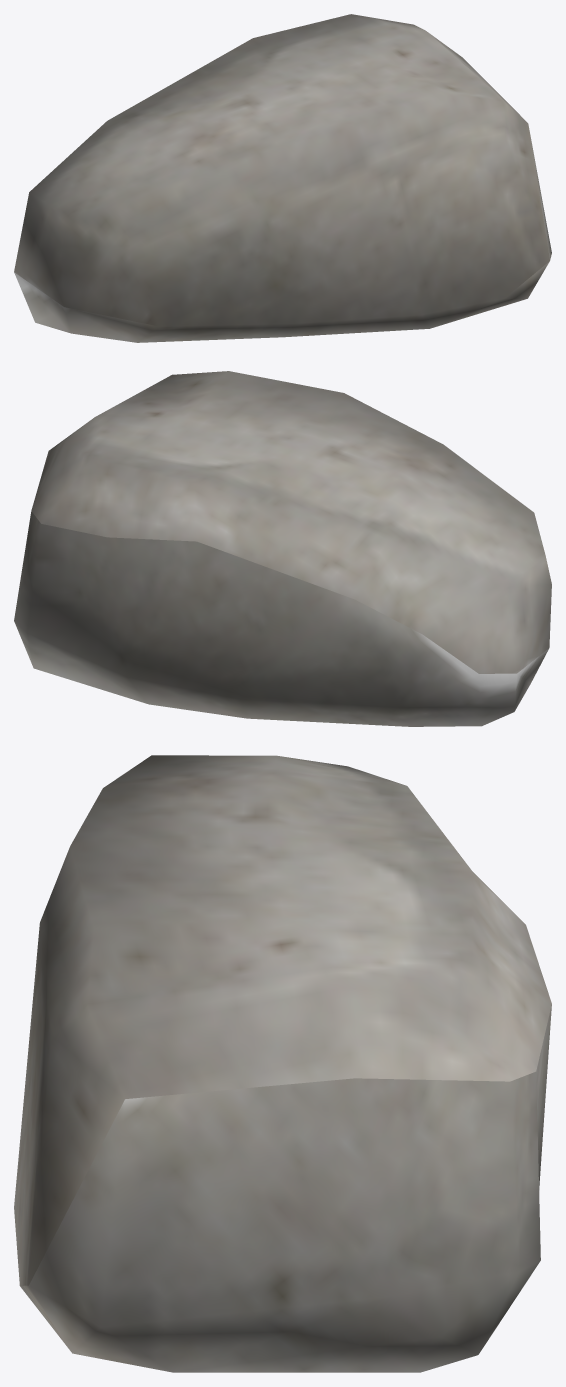
The model's file is Rock_04.glb.
3 views of the same model, one above another, from view 1: azimuth 30°, elevation 25°; view 2: azimuth 150°, elevation 25°; view 3: azimuth 270°, elevation 25° (orthographic). The views are drawn at different scales.
Parts seen in each view (by area): view 1: rock_04; view 2: rock_04; view 3: rock_04.
Part boxes in pixels (x1,y1,x2,y2): rock_04: (14,14,551,342); rock_04: (14,371,551,726); rock_04: (14,755,551,1372).
Bounding box in the file's own units: 1.78 × 0.8869 × 1.07.
1 material, 1 textured.
